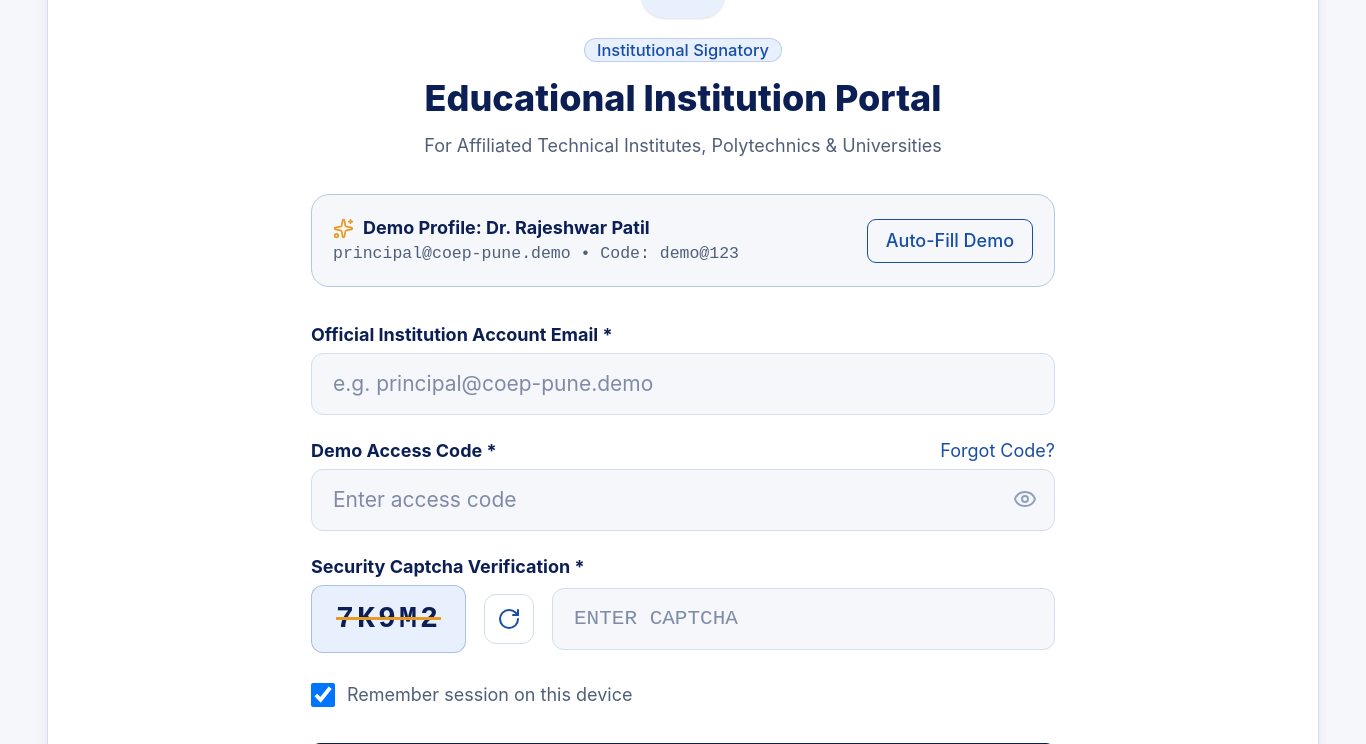
it: Module 02: React UI & Authentication Workflows › 11. Login Page shows captcha mismatch error on submit
(page scrolled)
Step 1. Type "principal@coep-pune.demo" into the field with placeholder "e.g. principal@coep-pune.demo" → (683, 384), box [311,353,1055,415]
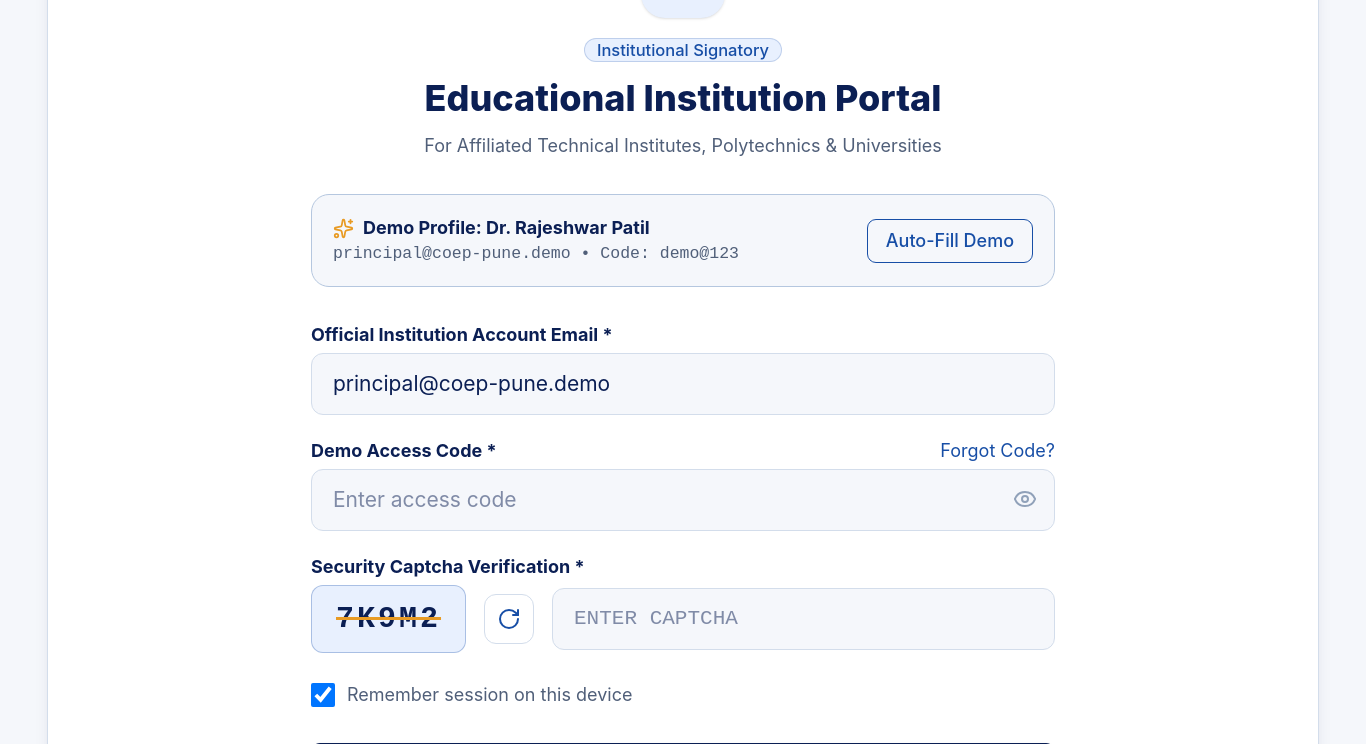
Step 2. Type "demo@123" into the password field with placeholder "Enter access code" → (683, 500), box [311,469,1055,531]
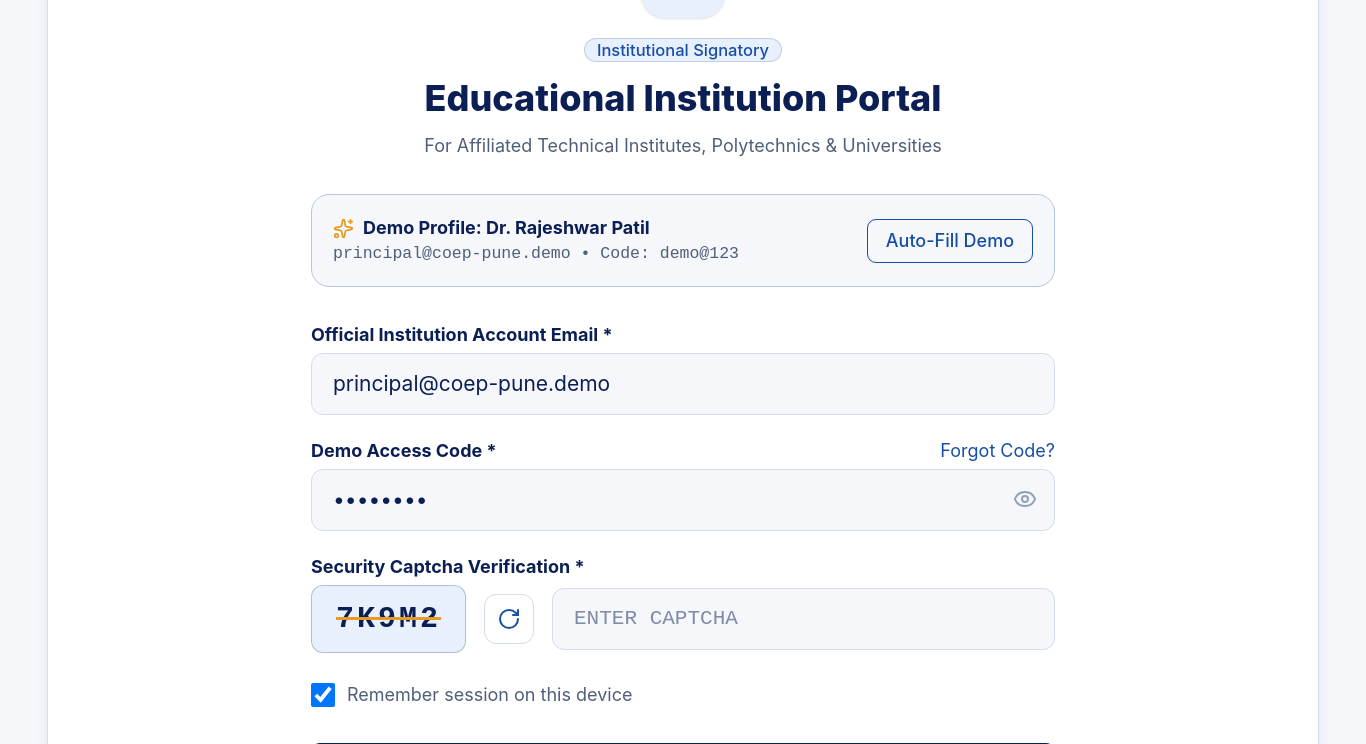
Step 3. Type "WRONG_CAPTCHA" into the field with placeholder "Enter Captcha" → (804, 619), box [552,588,1055,650]
(page scrolled)
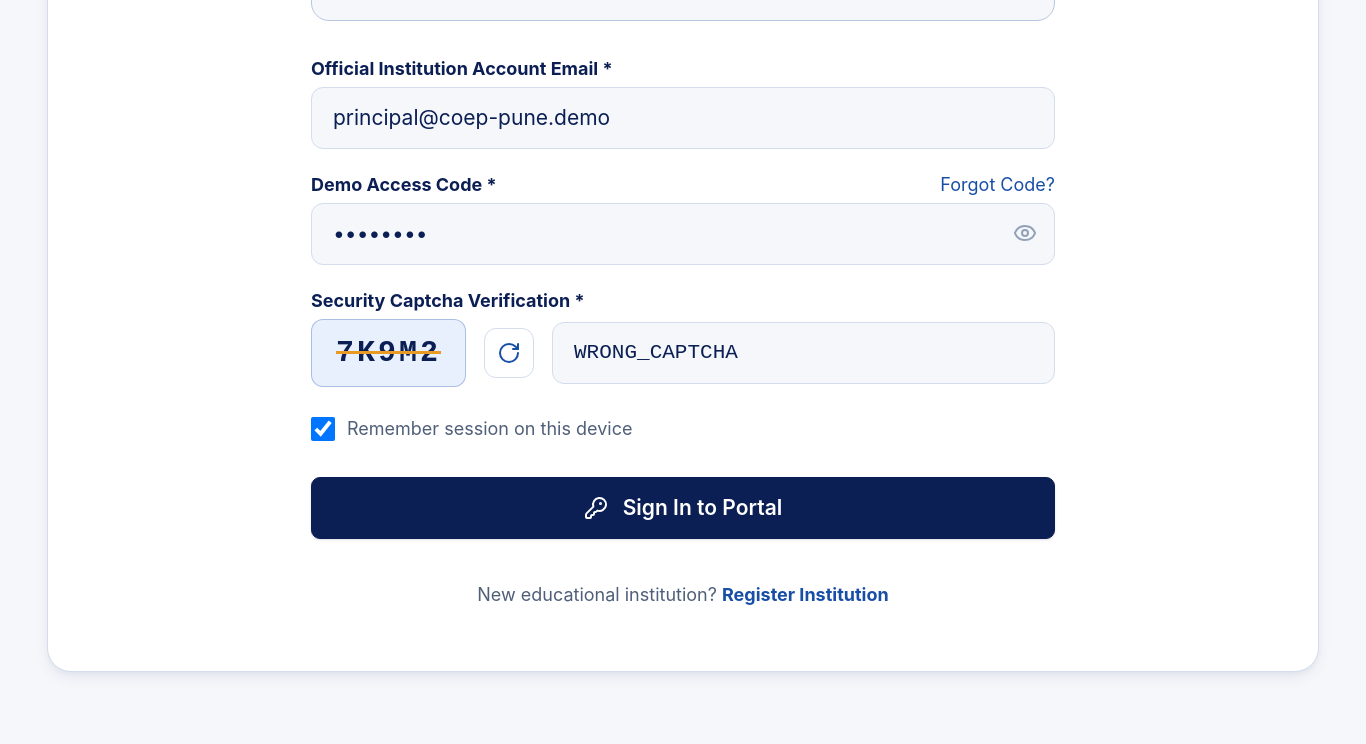
Step 4. Click the button "Sign In to Portal" → (683, 508), box [311,477,1055,539]
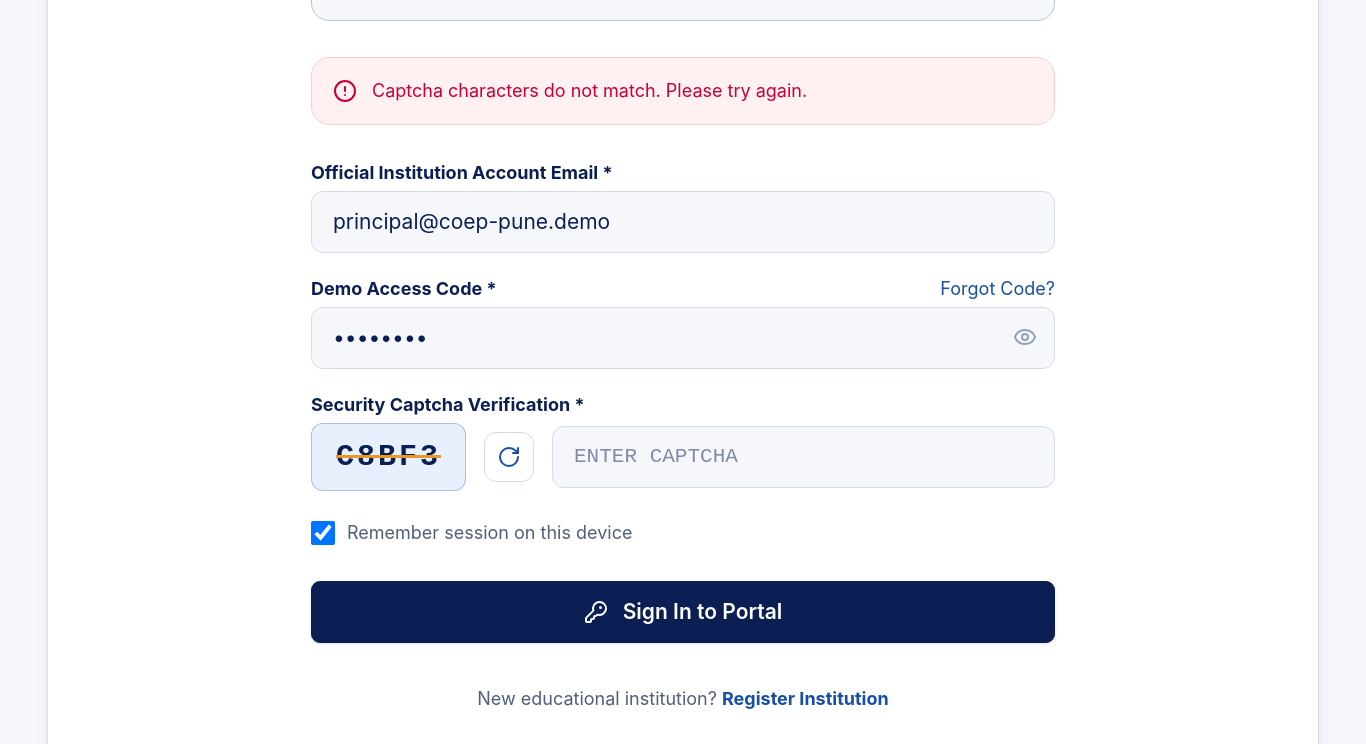
Result: the text "Captcha characters do not match. Please try again." is shown at [372,79,807,103]
